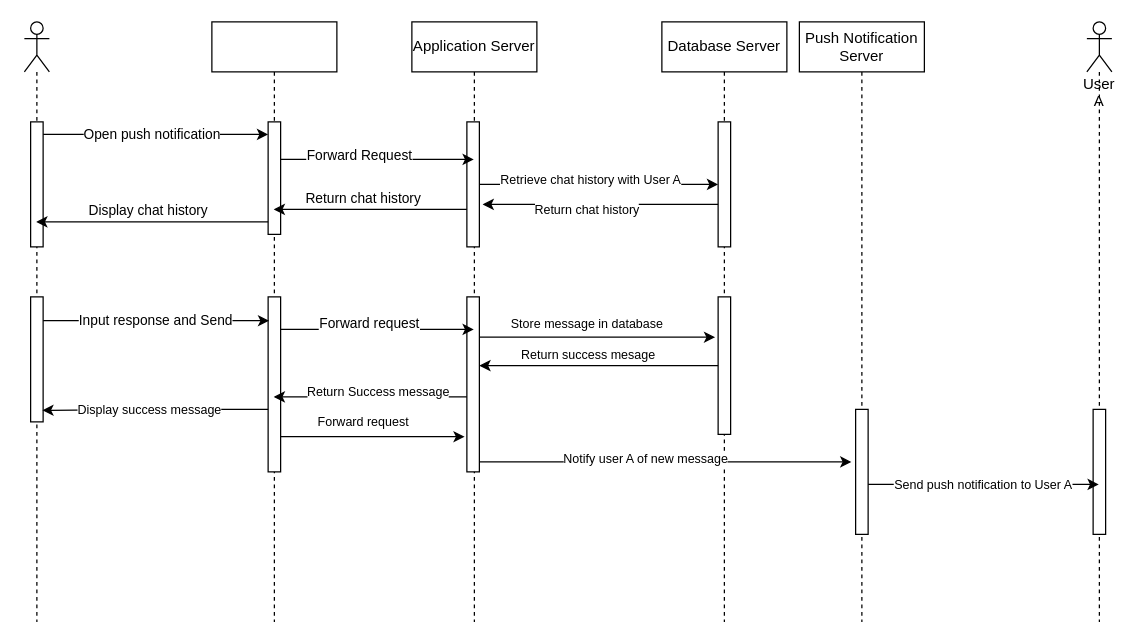
Some shapes in this 1136 by 644 pixel diagram are drawn without their labels. Here are the shapes that lost their labels. From the top down, the box of each, then its label:
(23, 21, 49, 622): User B
(211, 21, 337, 622): Web Server
